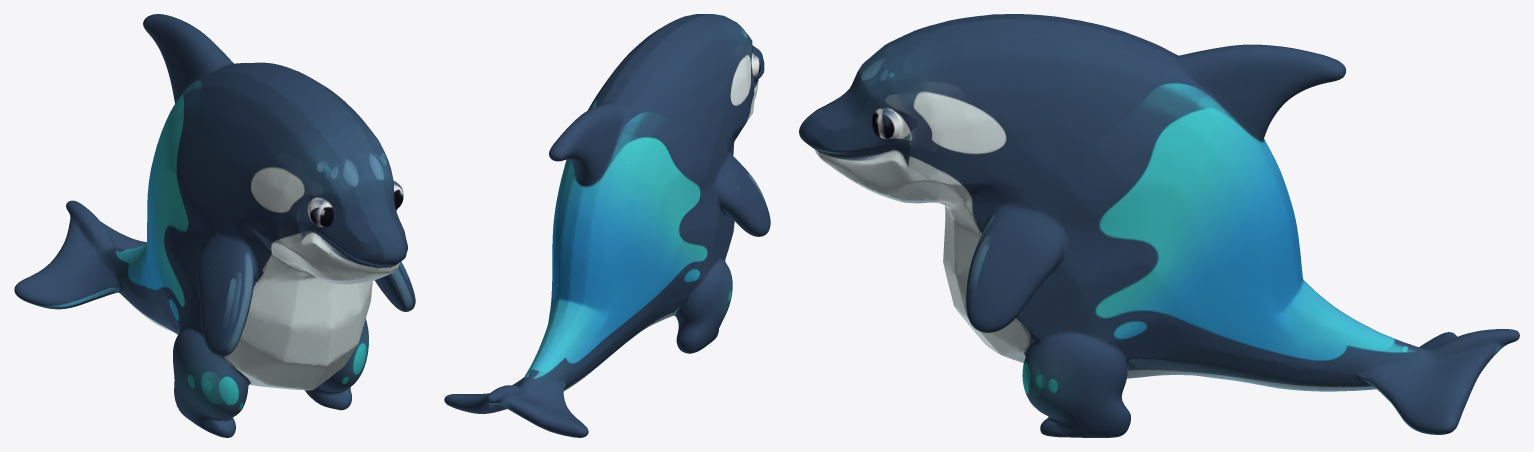
File: Meshy_AI_Bubbly_Blue_Orca_1013024543_texture.fbx
3 views of the same model, side by side, from view 1: azimuth 30°, elevation 25°; view 2: azimuth 150°, elevation 25°; view 3: azimuth 270°, elevation 25° (orthographic). The views are drawn at different scales.
Parts seen in each view (by area): view 1: Mesh_0; view 2: Mesh_0; view 3: Mesh_0.
Boxes of the visible parts, x1,y1,x2,y2 form: Mesh_0: (14,14,415,437); Mesh_0: (444,14,770,437); Mesh_0: (799,14,1519,437).
Bounding box in the file's own units: 67.23 × 112 × 190.
Materials: 1 (1 with a texture image).
